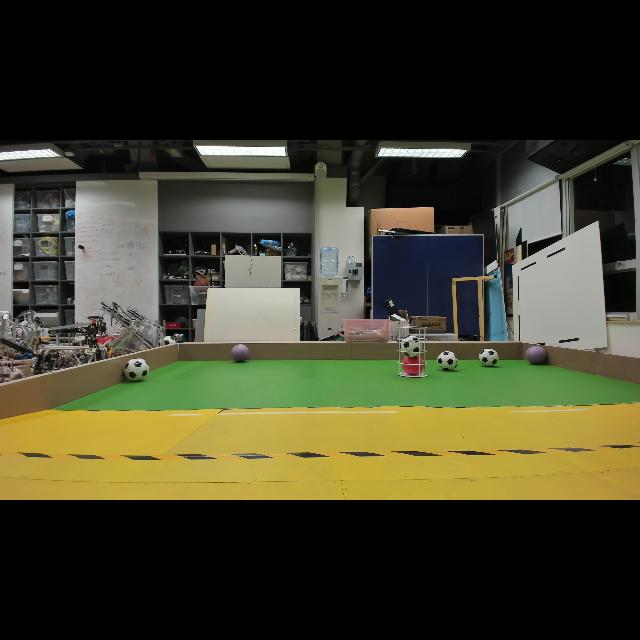P: (526, 344, 548, 366), (230, 344, 250, 364)
R: (402, 354, 424, 376)
S: (397, 326, 428, 378)
